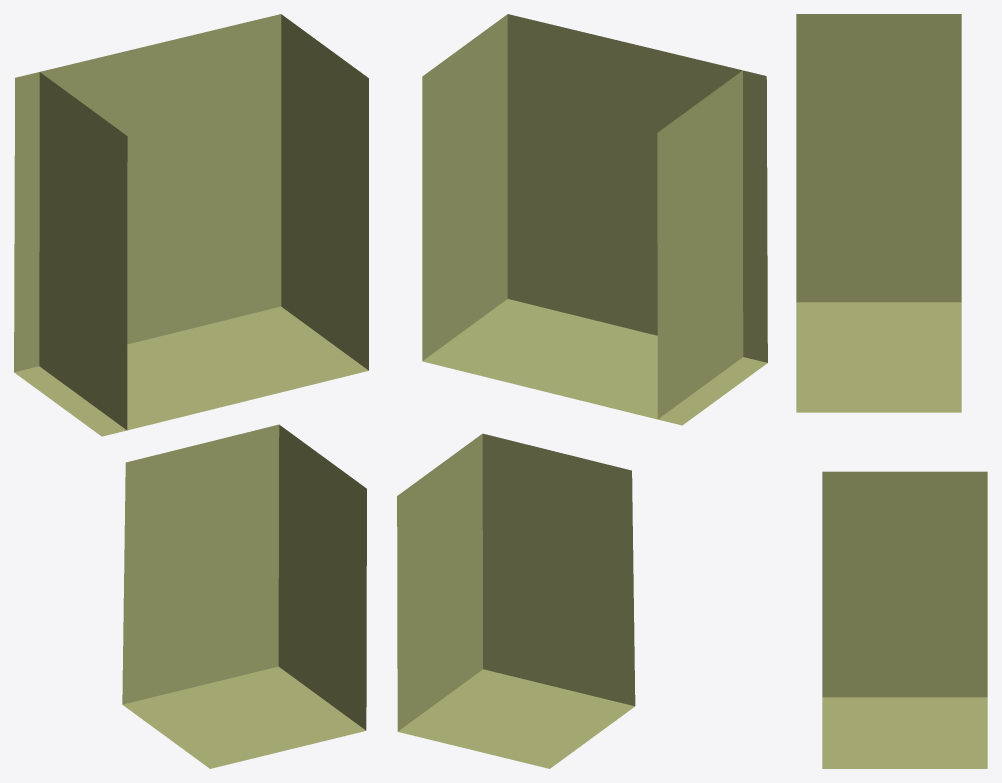
3 views of the same model, side by side, from view 1: azimuth 30°, elevation 25°; view 2: azimuth 150°, elevation 25°; view 3: azimuth 270°, elevation 25° (orthographic). The views are drawn at different scales.
Parts seen in each view (by area): view 1: 0_2_2_0_0_0_1_2_2_2; view 2: 0_2_2_0_0_0_1_2_2_2; view 3: 0_2_2_0_0_0_1_2_2_2.
Part boxes in pixels (x1,y1,x2,y2): 0_2_2_0_0_0_1_2_2_2: (14,14,368,768); 0_2_2_0_0_0_1_2_2_2: (397,14,767,768); 0_2_2_0_0_0_1_2_2_2: (796,14,987,768).
Size of the model in its own units: 11.01 by 25.13 by 6.95.
